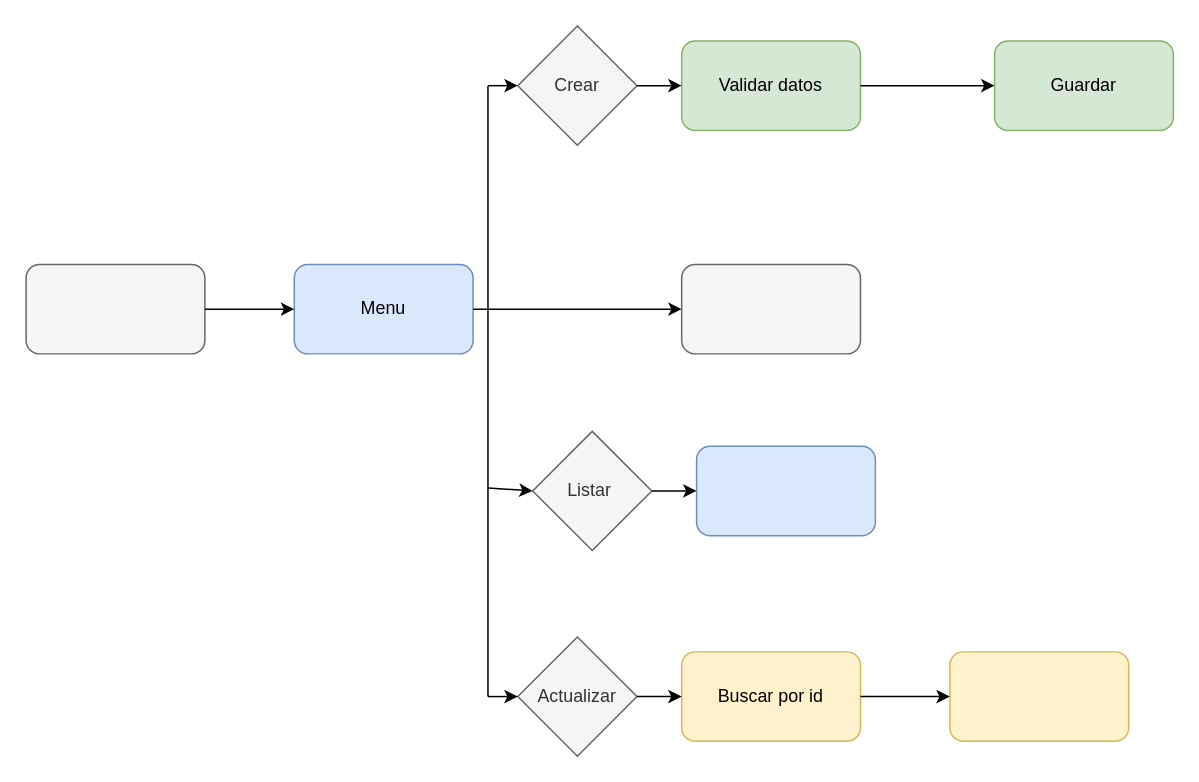
This 1199x782 diagram has some shape labels left out. The shapes that lost their labels are listed below. From the top down, each one's centre as x and y in pixels, then its label:
At [115,308]: "Inicio".
At [770,308]: "Salir".
At [785,490]: "Mostrar lista".
At [1038,695]: "Editar".
